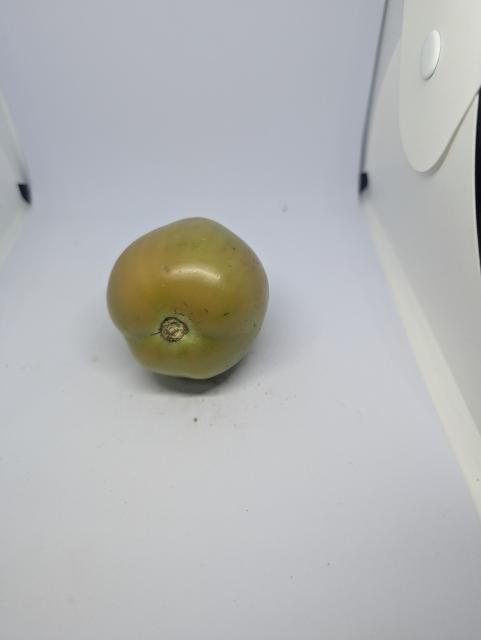breaker: (102, 213, 272, 384)
